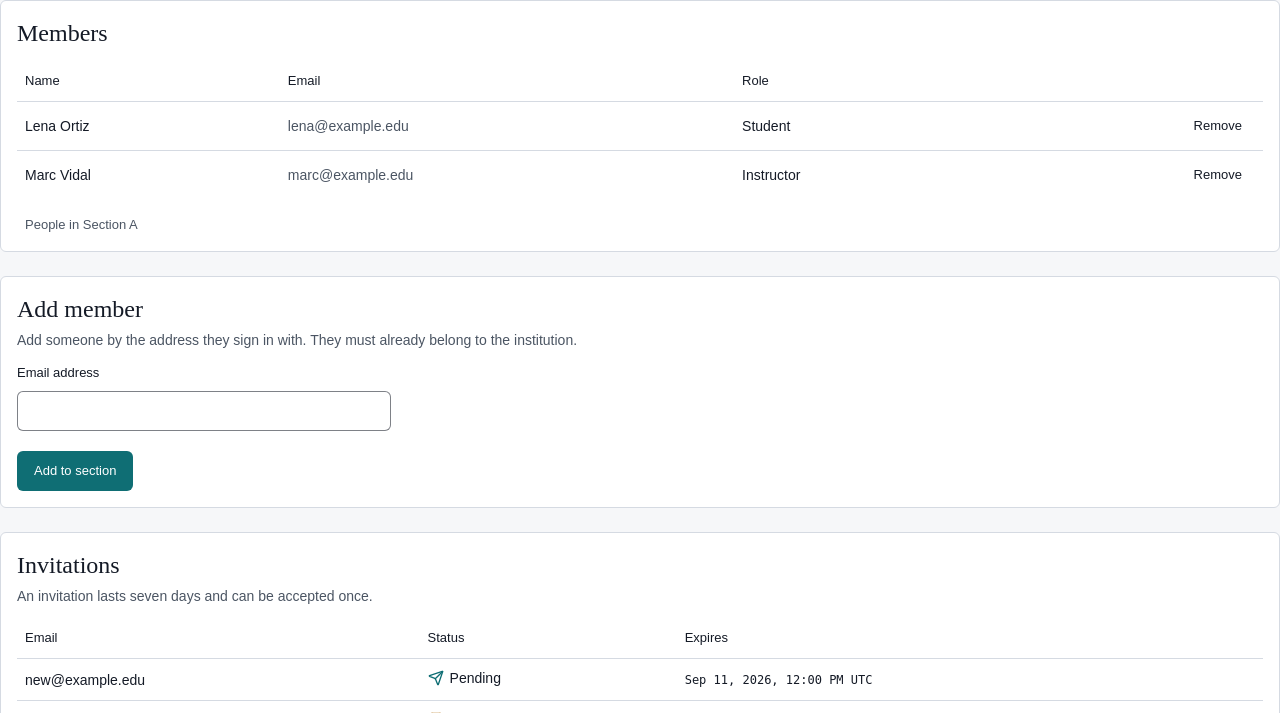
Scenario: SectionRoster invitations (UI-031) › opens the invitation form instead of sending on the press
The width and height of the screenshot is (1280, 713).
In the field labelled "Email address": [204, 410] box [17,390,391,430], type "newcomer@example.edu"
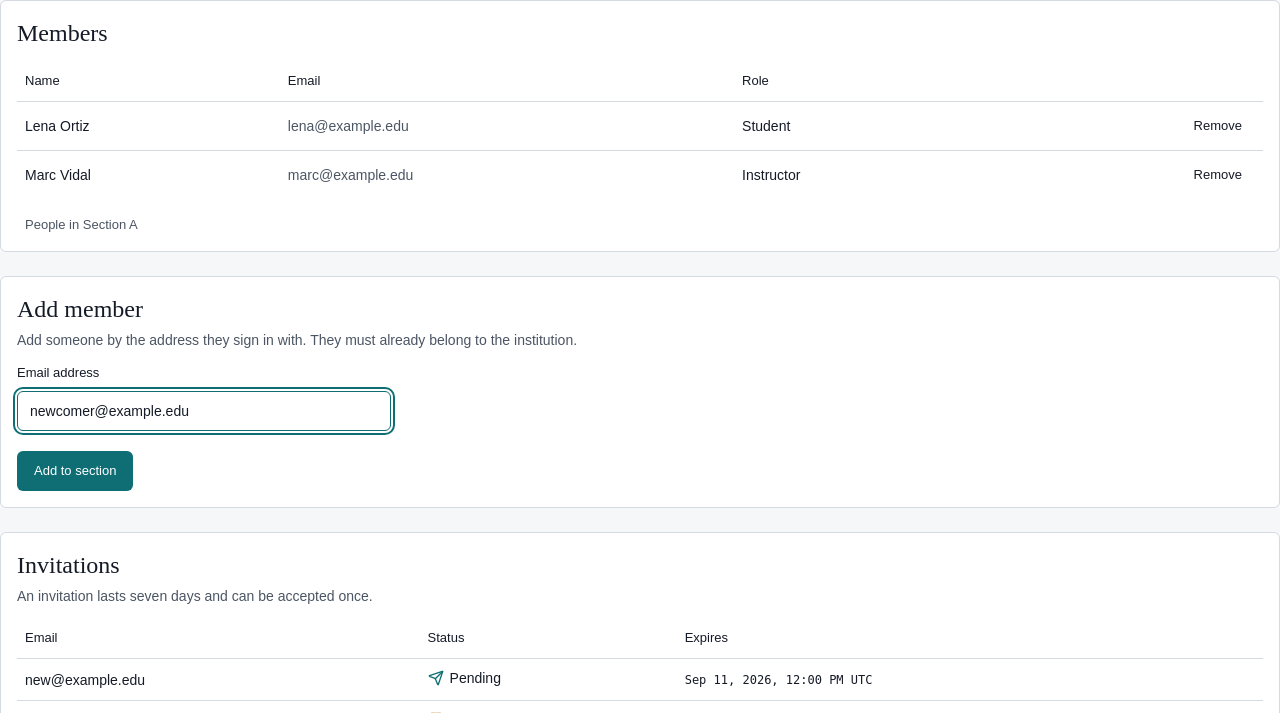
Click the button "Add to section": [75, 470] box [17,450,133,490]
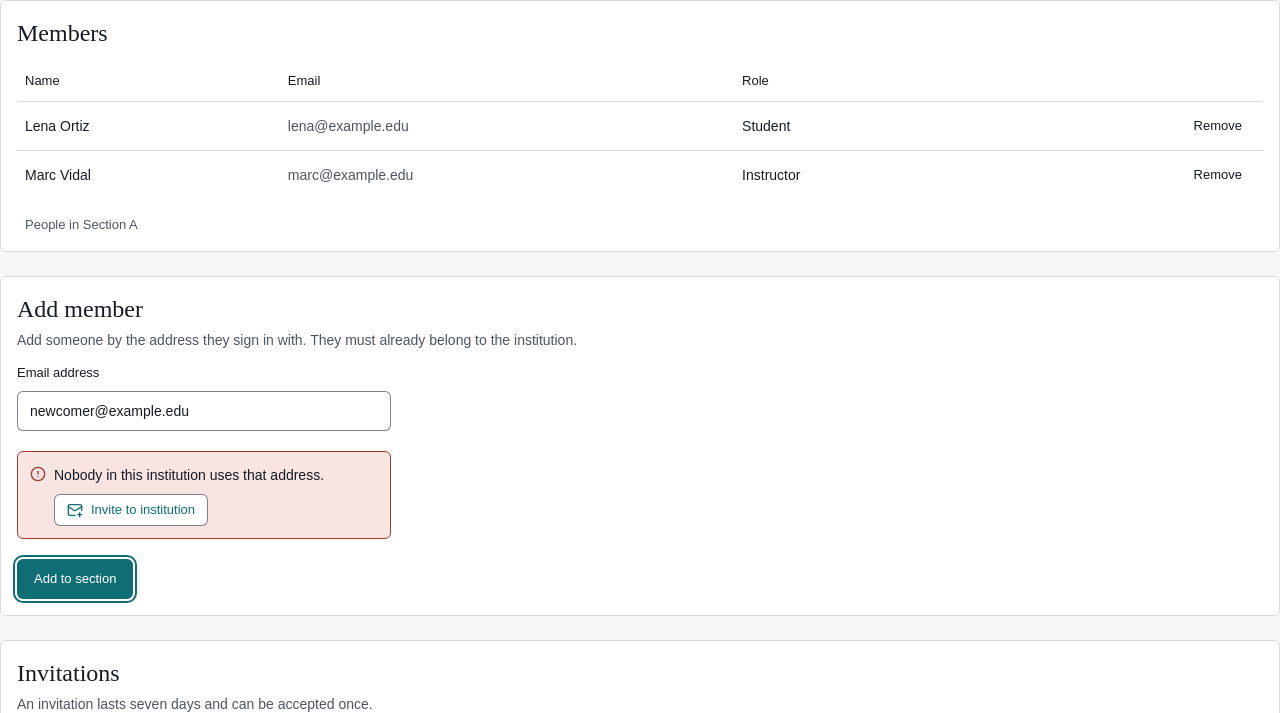
Click the button "Invite to institution": [131, 510] box [54,494,208,526]
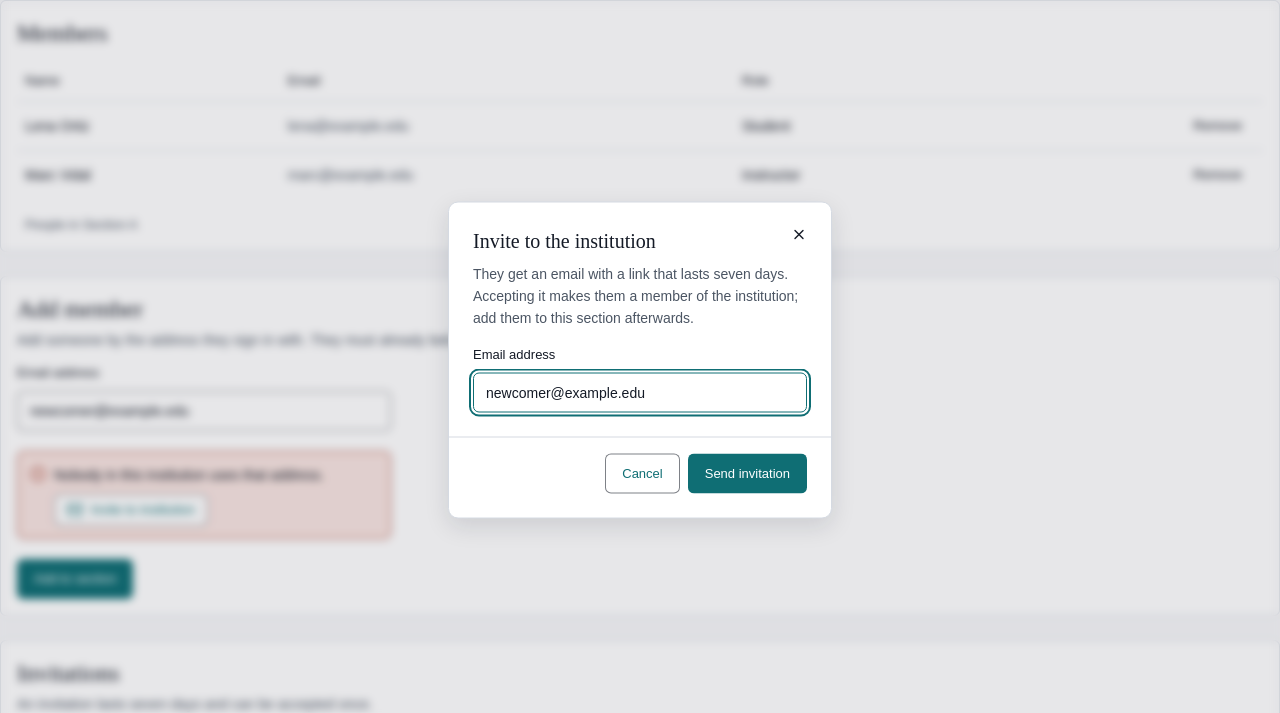
Now the field labelled "Email address" holds "newcomer@example.edu", box [473,372,807,412]
Now the button "Cancel" is shown, box [605,454,680,494]
